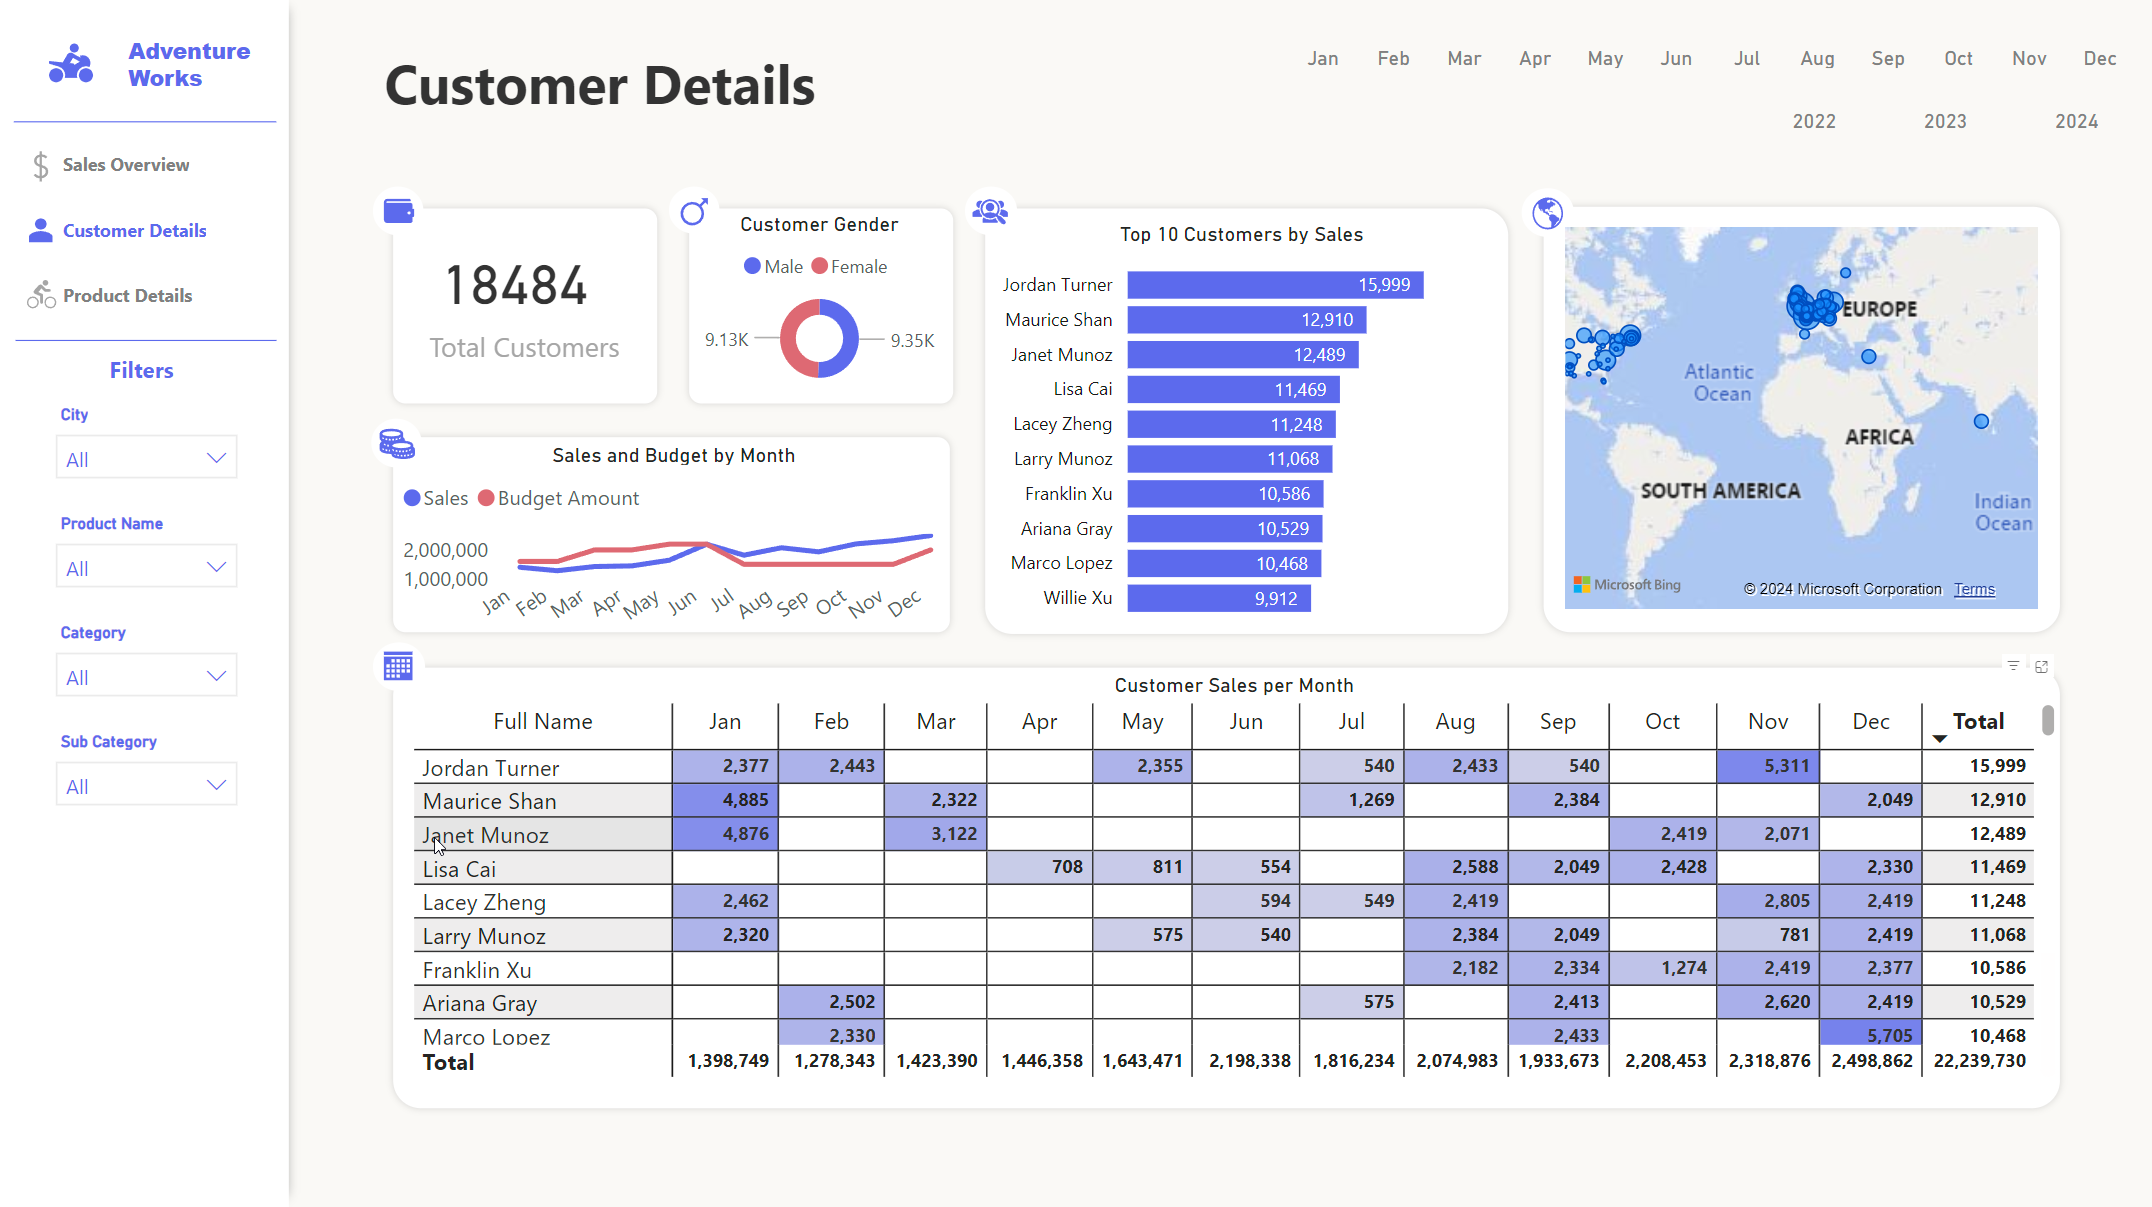

The dashboard page shown, as its layout file describes it:
{"tool":"powerbi","page":{"name":"Customer Details ","canvas":[1280,720],"ordinal":1},"visuals":[{"type":"shape","box":[389,105.1,156,136.4],"z":0},{"type":"shape","box":[231.1,248,314,135.8],"z":1000},{"type":"shape","box":[551.6,105.1,347.9,279.4],"z":2000},{"type":"shape","box":[231.1,390.3,1021.5,314],"z":2500},{"type":"shape","box":[905.3,105.1,347.3,279.4],"z":3000},{"type":"BBED0A4D4D8D44CE93CF2DAFADEE466C","fields":{"actual":["FACT_InternetSales_CSV.Sales"],"target1":["FACT_Budget.Budget Amount"],"target2":["FACT_Budget.Sales - Budget"]},"box":[554.9,231.2,12.3,12.3],"z":4000},{"type":"shape","box":[231.1,105.1,151.4,136.4],"z":5000},{"type":"lineChart","title":"Sales and Budget by Month","fields":{"Category":["DIM_Calendar_CSV.MonthShort"],"Y":["Key Measures.Sales","Key Measures.Budget Amount"]},"box":[232.4,255.9,312.7,125.3],"z":7000},{"type":"barChart","title":"Top 10 Customers by Sales","fields":{"Y":["Key Measures.Sales"],"Category":["DIM_Customers_CSV.FullName"]},"box":[557.4,107,337.5,274.1],"z":8000},{"type":"donutChart","title":"Customer Gender","fields":{"Y":["CountNonNull(DIM_Customers_CSV.Gender)"],"Category":["DIM_Customers_CSV.Gender"]},"box":[392.9,111.6,148.2,124],"z":10000},{"type":"pivotTable","title":"Customer Sales per Month","fields":{"Rows":["DIM_Customers_CSV.FullName"],"Values":["Key Measures.Sales"],"Columns":["DIM_Calendar_CSV.MonthShort"]},"box":[232.4,391,1014.3,309.4],"z":11000},{"type":"map","title":"Customers by City","fields":{"Category":["DIM_Customers_CSV.CustomerCity"],"Size":["CountNonNull(DIM_Customers_CSV.CustomerKey)"]},"box":[909.9,107,338.1,274.1],"z":12000},{"type":"advanceCardE03760C5AB684758B56AA29F9E6C257B","fields":{"mainMeasure":["CountNonNull(DIM_Customers_CSV.CustomerKey)"]},"box":[227.2,113,155.2,110],"z":13000},{"type":"shape","box":[0,0,193.9,720],"z":14000},{"type":"shape","box":[31.1,466.1,127.8,58.4],"z":15000},{"type":"shape","box":[31.1,401,127.8,58.4],"z":16000},{"type":"shape","box":[31.1,336.5,127.8,58.4],"z":17000},{"type":"slicer","fields":{"Values":["DIM_Customers_CSV.CustomerCity"]},"box":[31.1,270.7,127.2,58.4],"z":18000},{"type":"slicer","fields":{"Values":["DIM_Products_CSV.SubCategory"]},"box":[30.9,466,127.6,50],"z":19000},{"type":"slicer","fields":{"Values":["DIM_Products_CSV.ProductCategory"]},"box":[30.9,401.2,127.6,50],"z":20000},{"type":"slicer","fields":{"Values":["DIM_Products_CSV.ProductName"]},"box":[30.9,336.3,127.6,50],"z":21000},{"type":"textbox","box":[24.9,238.8,133.9,38.7],"z":22000},{"type":"pageNavigator","box":[14.7,101.6,165.3,111.8],"z":23000},{"type":"image","box":[17.2,178.4,29.5,31.3],"z":26000},{"type":"image","box":[22.4,7.2,44.8,47.2],"z":27000},{"type":"textbox","box":[65.6,9.6,107.2,51.2],"z":28000},{"type":"textbox","box":[223.2,24,349.6,60],"z":29000},{"type":"advancedSlicerVisual","fields":{"Values":["DIM_Calendar_CSV.MonthShort"]},"box":[790.4,31,489.6,36.8],"z":30000},{"type":"advancedSlicerVisual","fields":{"Values":["DIM_Calendar_CSV.Year"]},"box":[640,31.8,142.4,36.8],"z":31000},{"type":"shape","box":[763.2,38.2,48.8,26.4],"z":32000},{"type":"image","box":[19.6,144.3,25.5,25.5],"z":32001},{"type":"image","box":[18.9,104.4,26.8,24.8],"z":32002},{"type":"shape","box":[31.3,270.2,127.9,58.7],"z":32003}]}

Visuals, with their boxes on the page's 1280x720 design canvas (x1, y1, x2, y2). These are canvas units, not pixel positions in the 2152x1207 screenshot, which may show the page scaled, cropped or inside an application window:
shape: rect(389, 105, 545, 242)
shape: rect(231, 248, 545, 384)
shape: rect(552, 105, 900, 384)
shape: rect(231, 390, 1253, 704)
shape: rect(905, 105, 1253, 384)
BBED0A4D4D8D44CE93CF2DAFADEE466C - FACT_InternetSales_CSV.Sales x FACT_Budget.Budget Amount: rect(555, 231, 567, 244)
shape: rect(231, 105, 382, 242)
"Sales and Budget by Month" lineChart: rect(232, 256, 545, 381)
"Top 10 Customers by Sales" barChart: rect(557, 107, 895, 381)
"Customer Gender" donutChart: rect(393, 112, 541, 236)
"Customer Sales per Month" pivotTable: rect(232, 391, 1247, 700)
"Customers by City" map: rect(910, 107, 1248, 381)
advanceCardE03760C5AB684758B56AA29F9E6C257B - CountNonNull(DIM_Customers_CSV.CustomerKey): rect(227, 113, 382, 223)
shape: rect(0, 0, 194, 720)
shape: rect(31, 466, 159, 524)
shape: rect(31, 401, 159, 459)
shape: rect(31, 336, 159, 395)
slicer - DIM_Customers_CSV.CustomerCity: rect(31, 271, 158, 329)
slicer - DIM_Products_CSV.SubCategory: rect(31, 466, 158, 516)
slicer - DIM_Products_CSV.ProductCategory: rect(31, 401, 158, 451)
slicer - DIM_Products_CSV.ProductName: rect(31, 336, 158, 386)
textbox: rect(25, 239, 159, 278)
pageNavigator: rect(15, 102, 180, 213)
image: rect(17, 178, 47, 210)
image: rect(22, 7, 67, 54)
textbox: rect(66, 10, 173, 61)
textbox: rect(223, 24, 573, 84)
advancedSlicerVisual - DIM_Calendar_CSV.MonthShort: rect(790, 31, 1280, 68)
advancedSlicerVisual - DIM_Calendar_CSV.Year: rect(640, 32, 782, 69)
shape: rect(763, 38, 812, 65)
image: rect(20, 144, 45, 170)
image: rect(19, 104, 46, 129)
shape: rect(31, 270, 159, 329)
